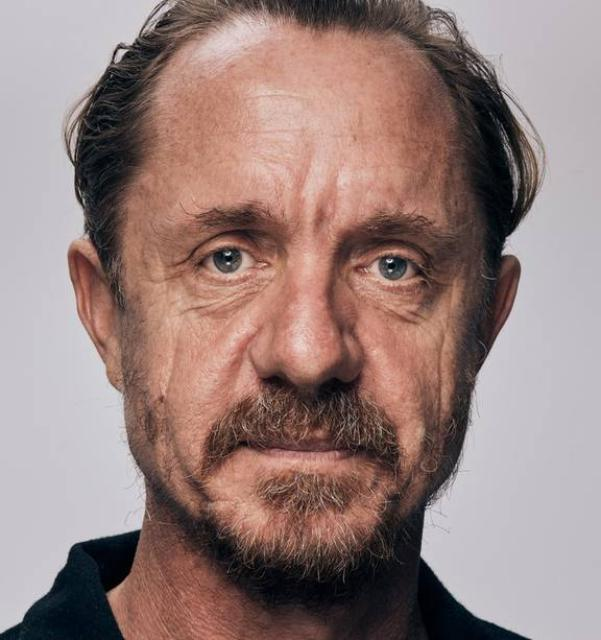crows_feet: (146, 250, 192, 302)
frown_line: (290, 156, 310, 228)
masseter: (159, 331, 185, 407), (428, 335, 452, 413)
